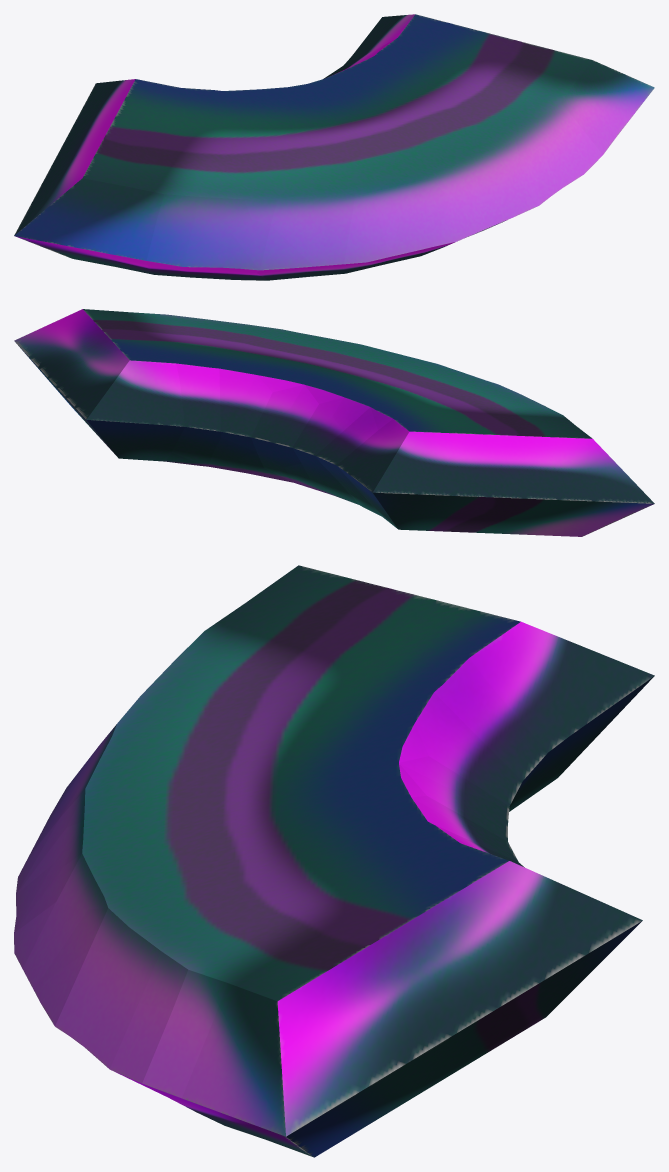
Rendered from lips.fbx.
3 renders of one model, top to bottom at view 1: azimuth 30°, elevation 25°; view 2: azimuth 150°, elevation 25°; view 3: azimuth 270°, elevation 25°, orthographic. The views are drawn at different scales.
Visible parts, largest first — view 1: Arc; view 2: Arc; view 3: Arc.
Part boxes in pixels (x1=…): Arc: x1=14, y1=14, x2=654, y2=280; Arc: x1=14, y1=309, x2=654, y2=536; Arc: x1=14, y1=565, x2=654, y2=1157.
Size of the model in its own units: 220 by 45.14 by 109.
Materials: 1 (1 with a texture image).
